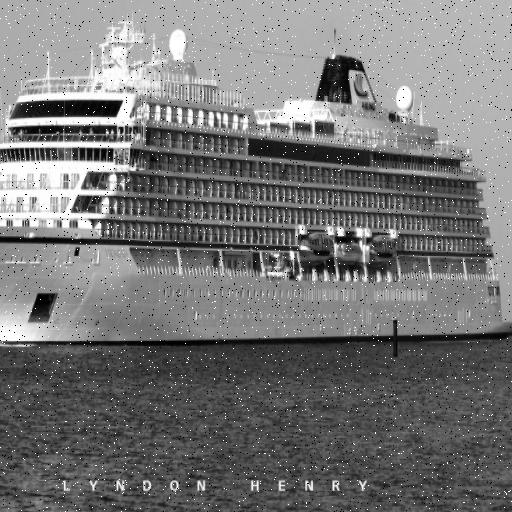cruises: (1, 7, 512, 358)
